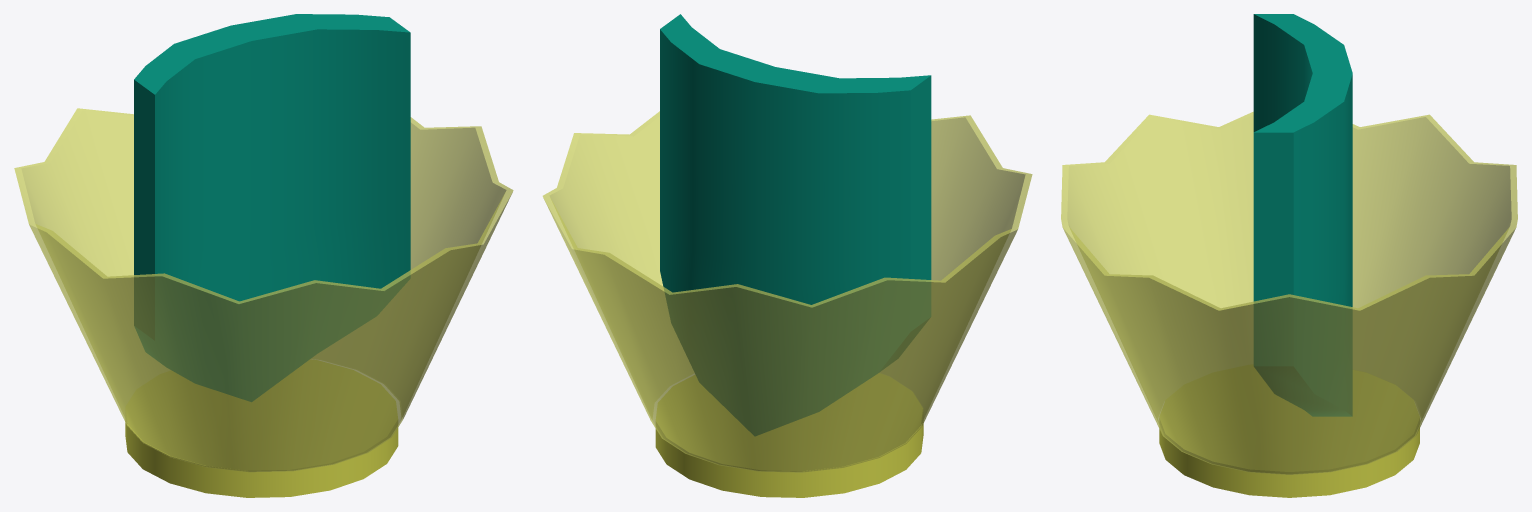
File: Invulnerable_Out.fbx
The picture shows the model from 3 angles, left to right: view 1: azimuth 30°, elevation 25°; view 2: azimuth 150°, elevation 25°; view 3: azimuth 270°, elevation 25°; orthographic projection. The views are drawn at different scales.
Visible parts, largest first — view 1: pCube1, pPipe1, pCylinder1; view 2: pCube1, pPipe1, pCylinder1; view 3: pPipe1, pCube1, pCylinder1.
Part boxes in pixels (left/top/right/bottom): pCube1: left=134, top=14, right=410, bottom=401; pPipe1: left=14, top=108, right=513, bottom=472; pCylinder1: left=125, top=359, right=398, bottom=497; pCube1: left=660, top=14, right=931, bottom=435; pPipe1: left=542, top=111, right=1032, bottom=472; pCylinder1: left=655, top=373, right=923, bottom=497; pPipe1: left=1061, top=111, right=1517, bottom=474; pCube1: left=1253, top=14, right=1352, bottom=416; pCylinder1: left=1159, top=365, right=1419, bottom=497.
Bounding box in the file's own units: 7.46 × 6.39 × 7.14.
